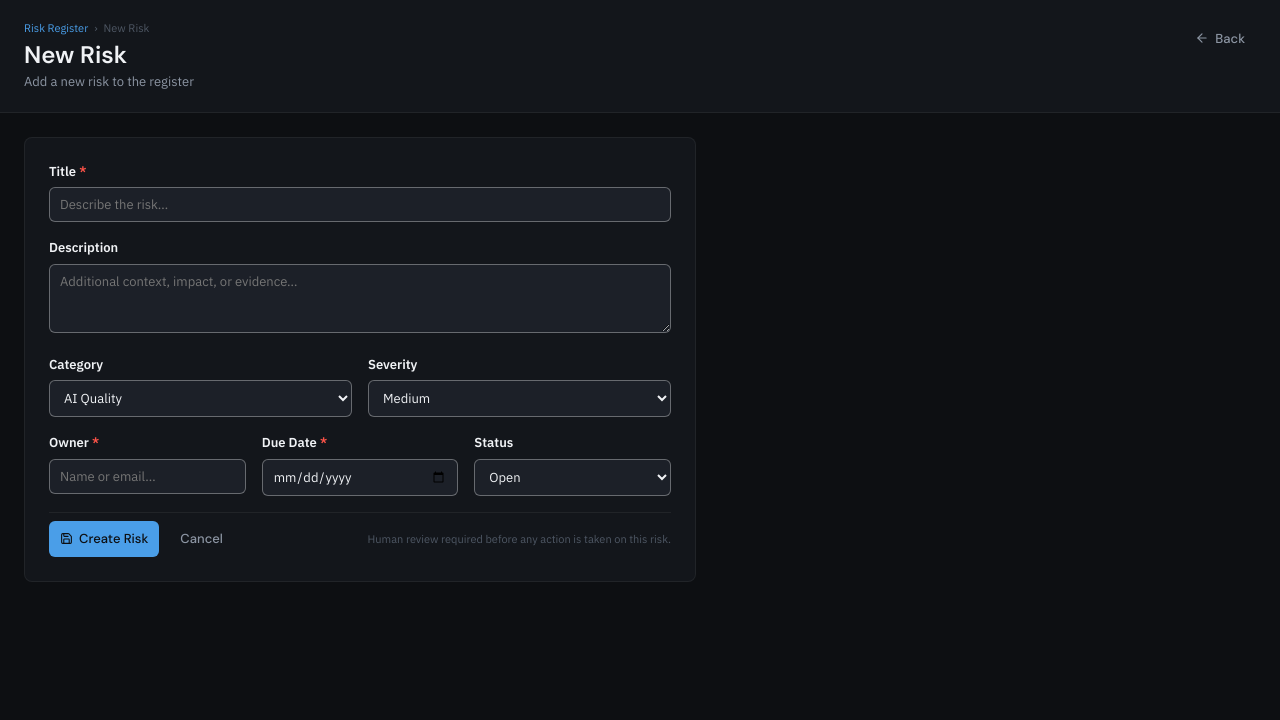
Test: RiskForm — onBlur field validation (STORY-RISKFORM-001) › AC-1: shows an inline error when a required field is left empty on blur
This screenshot has width=1280, height=720.
Step 1. Click the field with placeholder "Describe the risk…" → (360, 205), box [49, 187, 671, 222]
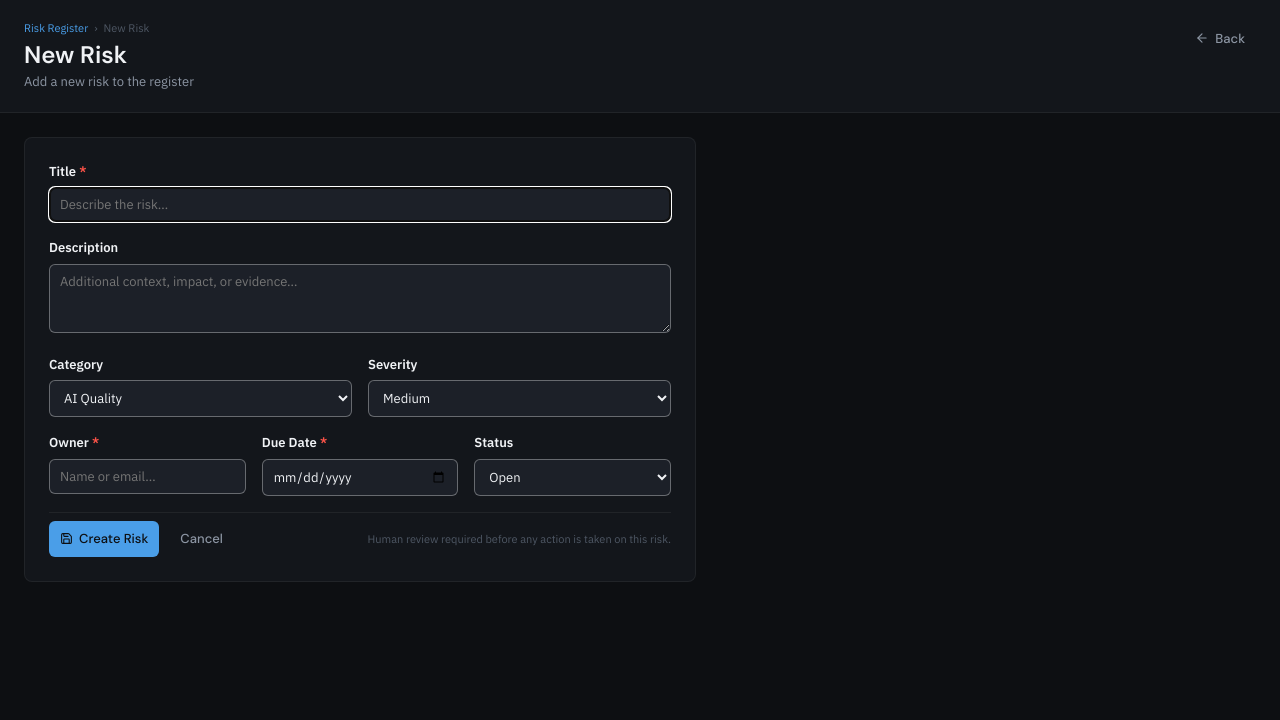
Step 2. Press Tab
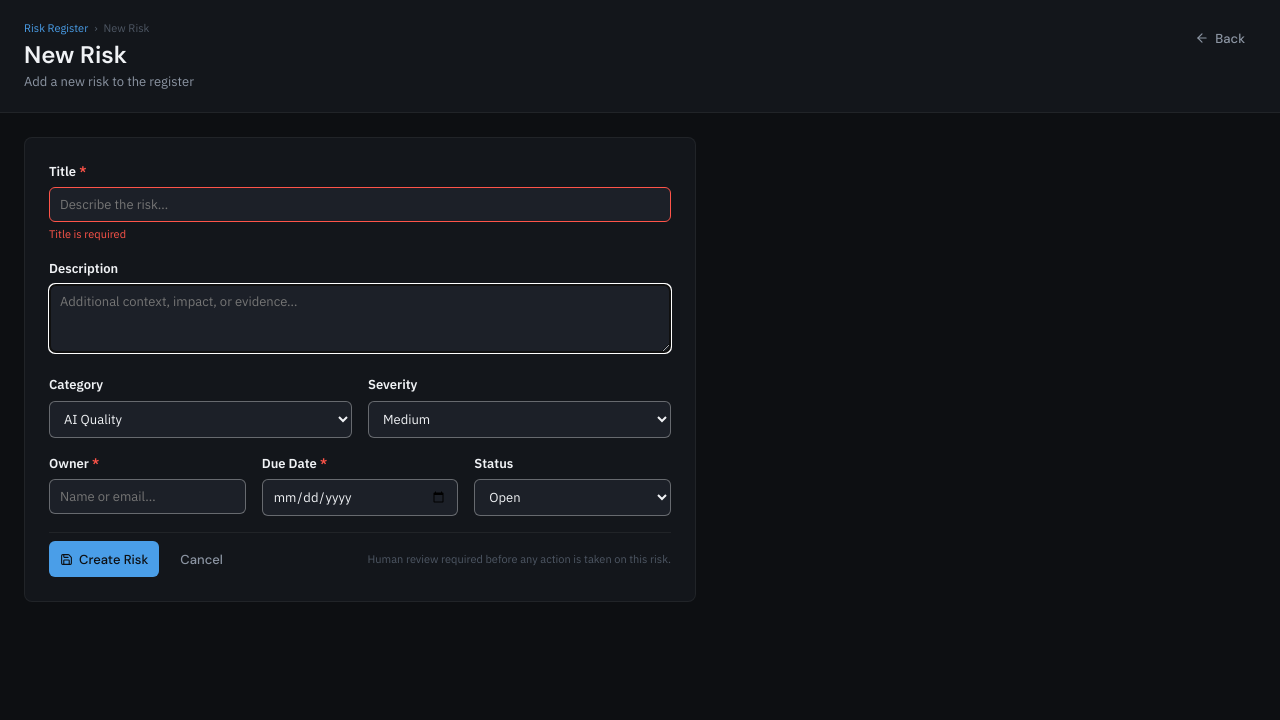
Check: the text "Title is required" is shown, box [49, 227, 126, 241]
